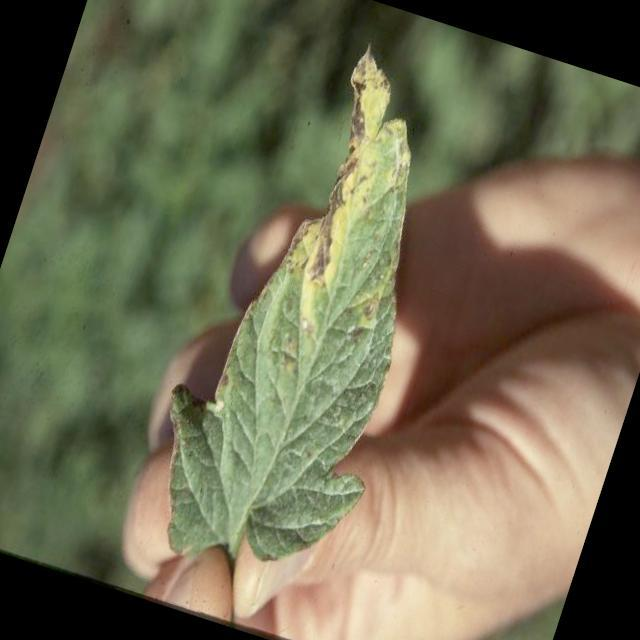Tomato bacterial spot leaf: (118, 11, 503, 622)
